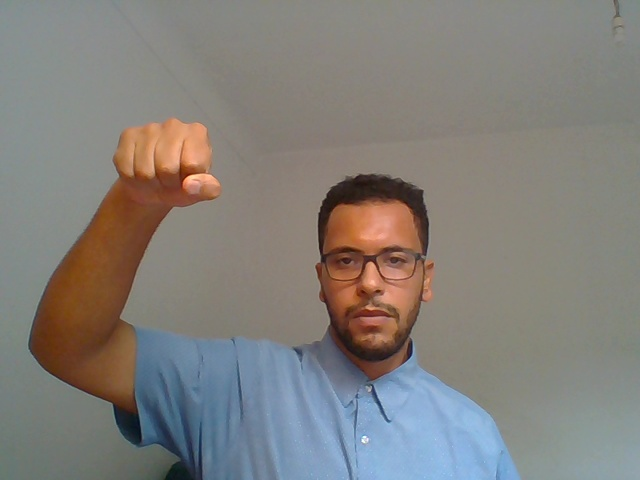yes: (87, 97, 260, 276)
